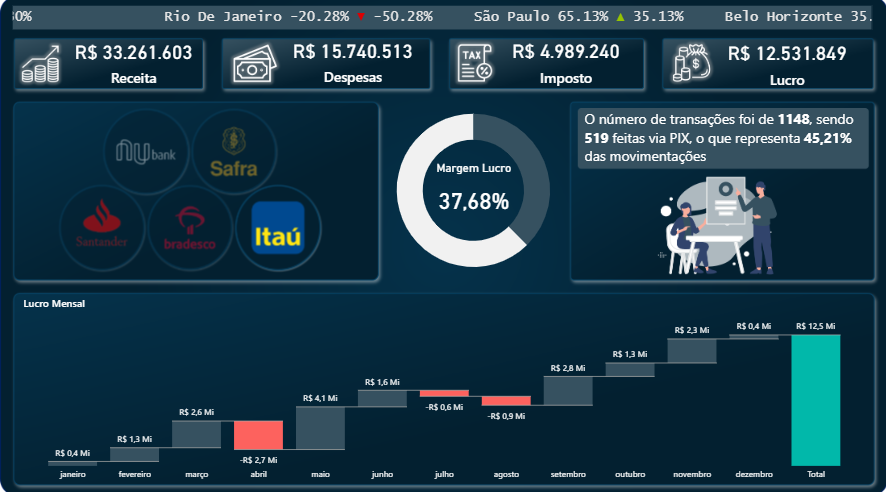

The page's visual inventory and layout, read from the dashboard file:
{"tool":"powerbi","page":{"name":"Dashboard Financeiro","canvas":[1280,720],"ordinal":0},"visuals":[{"type":"donutChart","title":"% Margem de Lucro","fields":{"Y":["Movimentações.Margem","Movimentações.Margem Auxiliar"]},"box":[496.9,137.3,370,286.3],"z":0},{"type":"card","fields":{"Values":["Movimentações.Receita"]},"box":[91.9,40.7,201.3,104.7],"z":1000},{"type":"card","fields":{"Values":["Movimentações.Despesas"]},"box":[408.4,44.2,199,94.3],"z":2000},{"type":"card","fields":{"Values":["Movimentações.Imposto"]},"box":[713.3,48.9,204.8,86.1],"z":3000},{"type":"card","fields":{"Values":["Movimentações.Lucro"]},"box":[1018.2,51.2,231.6,86.1],"z":4000},{"type":"waterfallChart","title":"Lucro Mensal","fields":{"Category":["Movimentações.Data da Movimentacao.Variation.Hierarquia de datas.Mês"],"Y":["Movimentações.Lucro"]},"box":[29.1,431.7,1223,274.6],"z":5000},{"type":"card","title":"Margem Lucro","fields":{"Values":["Movimentações.Margem"]},"box":[602.8,237.4,158.3,90.8],"z":6000},{"type":"ImageGrid_FC5183B9_926C_45E0_B5F7_0CE9EAF1DA9B","fields":{"ImageURLHQ":["Movimentações.Imagem"]},"box":[0,73.3,549.2,413.1],"z":7000},{"type":"ScrollingTextVisual1448795304508","fields":{"Measure Absolute":["Movimentações.Margem"],"Category":["Movimentações.Município"],"Measure Deviation":["Movimentações.Desvio Margem"]},"box":[12.8,9.3,1247.4,44.2],"z":8000},{"type":"enlightenDataStoryDDFB78A6143E42CFAFBC50CCF18D978D","fields":{"measure":["Movimentações.Transações","Movimentações.Transações PIX","Movimentações.% PIX"]},"box":[836.7,157.1,399.1,97.7],"z":9000},{"type":"actionButton","box":[29.1,61.7,82.6,86.1],"z":10000}]}

Visuals, with their boxes in screenshot pixels (x1, y1, x2, y2), scaled from the page's 1280x720 canvas onto the 886x492 screenshot:
"% Margem de Lucro" donutChart: [x1=344, y1=94, x2=600, y2=289]
card - Movimentações.Receita: [x1=64, y1=28, x2=203, y2=99]
card - Movimentações.Despesas: [x1=283, y1=30, x2=420, y2=95]
card - Movimentações.Imposto: [x1=494, y1=33, x2=635, y2=92]
card - Movimentações.Lucro: [x1=705, y1=35, x2=865, y2=94]
"Lucro Mensal" waterfallChart: [x1=20, y1=295, x2=867, y2=483]
"Margem Lucro" card: [x1=417, y1=162, x2=527, y2=224]
ImageGrid_FC5183B9_926C_45E0_B5F7_0CE9EAF1DA9B - Movimentações.Imagem: [x1=0, y1=50, x2=380, y2=332]
ScrollingTextVisual1448795304508 - Movimentações.Margem x Movimentações.Município: [x1=9, y1=6, x2=872, y2=37]
enlightenDataStoryDDFB78A6143E42CFAFBC50CCF18D978D - Movimentações.Transações x Movimentações.Transações PIX: [x1=579, y1=107, x2=855, y2=174]
actionButton: [x1=20, y1=42, x2=77, y2=101]
